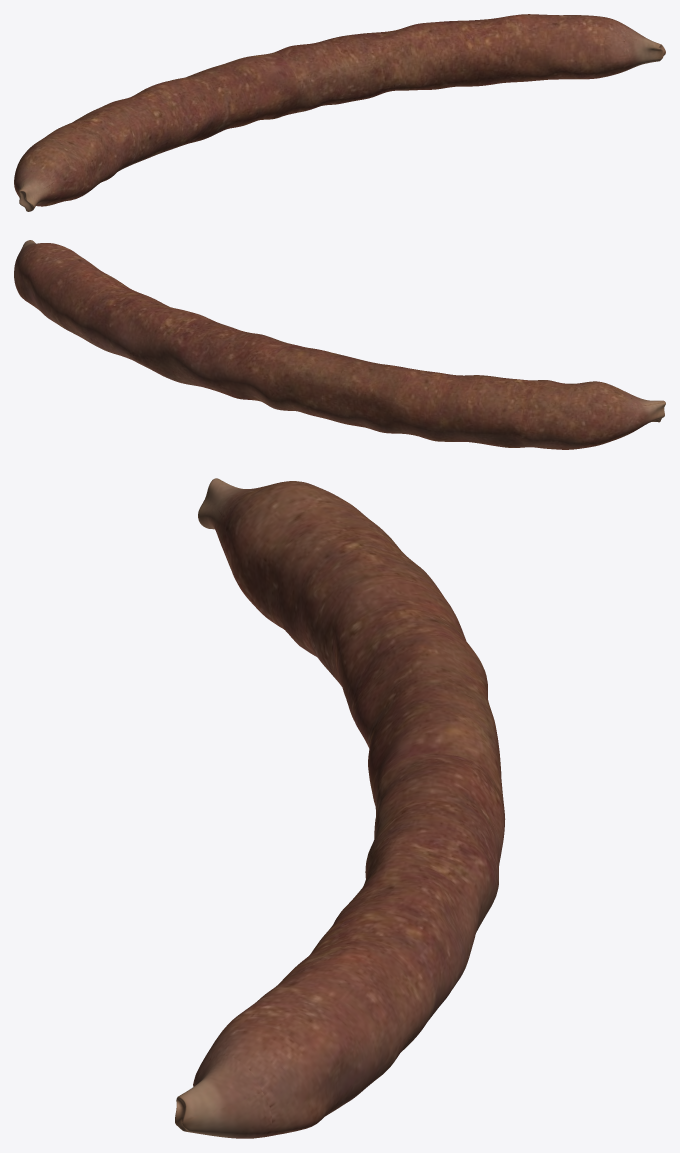
File: LongSaussage.obj
3 views of the same model, one above another, from view 1: azimuth 30°, elevation 25°; view 2: azimuth 150°, elevation 25°; view 3: azimuth 270°, elevation 25° (orthographic). The views are drawn at different scales.
Visible parts, largest first — view 1: LongSaussage; view 2: LongSaussage; view 3: LongSaussage.
Part boxes in pixels (left/top/right/bottom): LongSaussage: left=14, top=14, right=665, bottom=211; LongSaussage: left=14, top=240, right=665, bottom=449; LongSaussage: left=175, top=478, right=505, bottom=1138.
Bounding box in the file's own units: 0.436 × 0.041 × 0.0977.
Materials: 1 (1 with a texture image).
